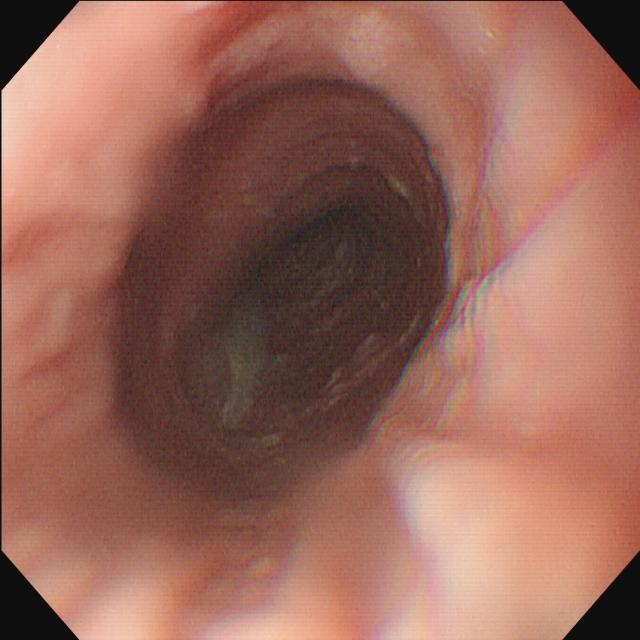E: (269, 176, 409, 332)
